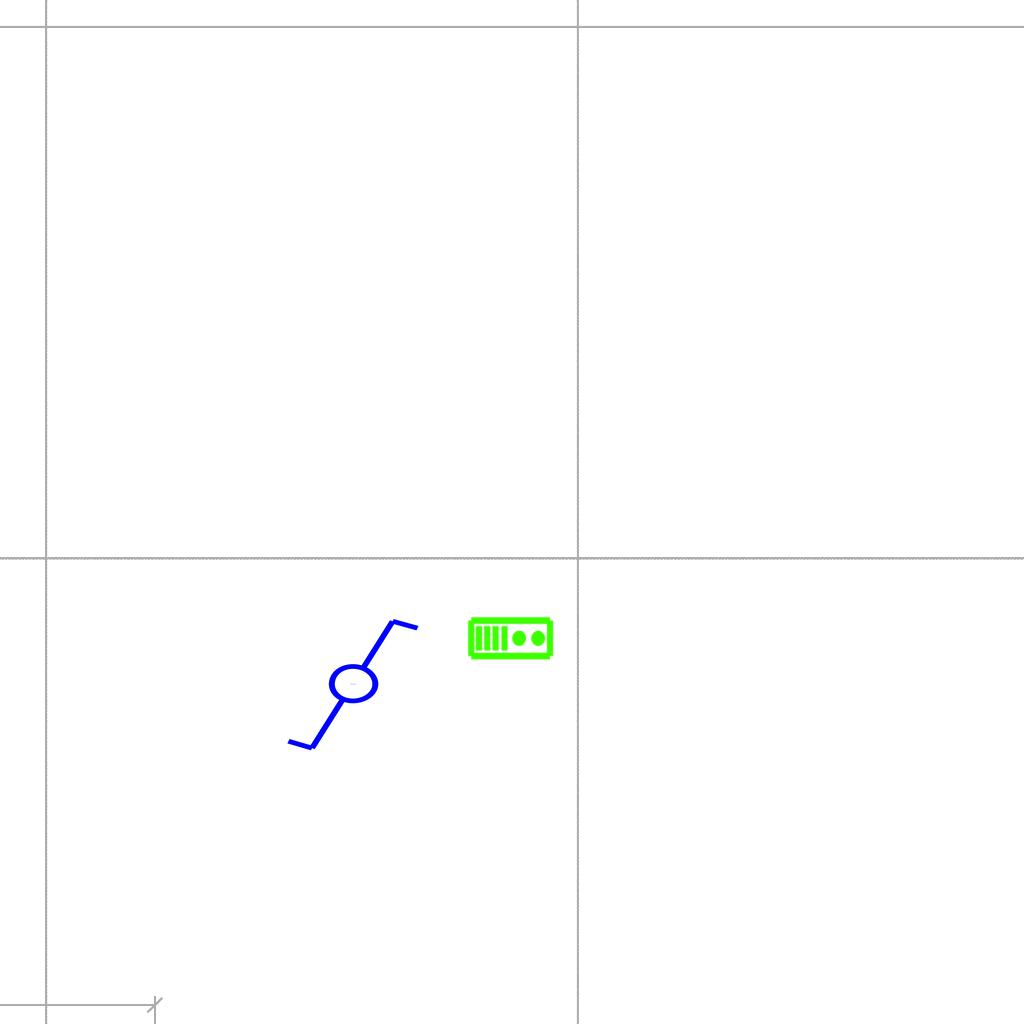Gegensprechanlage_mit_Video: (467, 614, 555, 661)
Wechselschalter: (283, 614, 440, 758)
